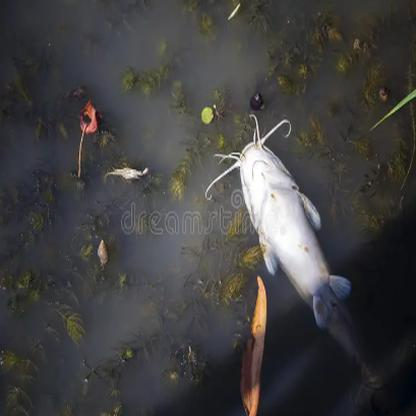deceased fish: (204, 119, 386, 388)
